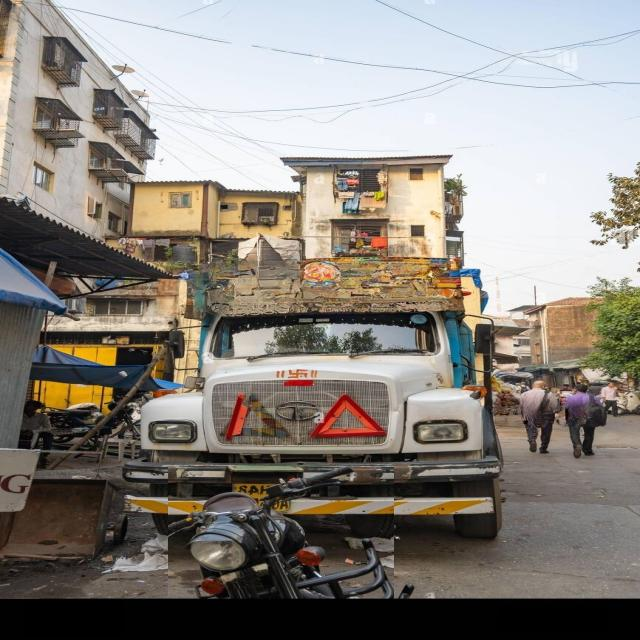motorcycle: (169, 466, 394, 599)
truck: (124, 244, 502, 538)
